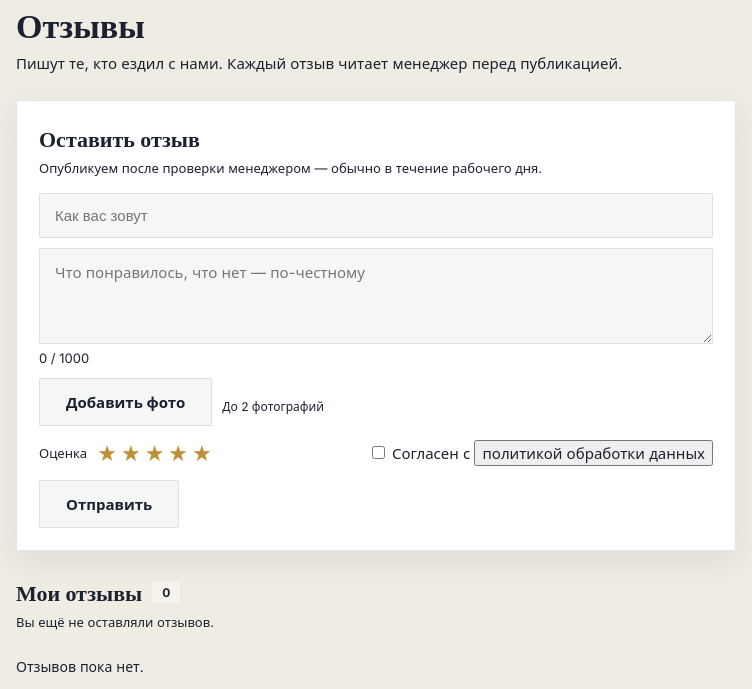
Reviews › submits a review only once while the first request is pending
Type "Анна" into the field with placeholder "Как вас зовут" at (376,216), box [39,193,713,238]
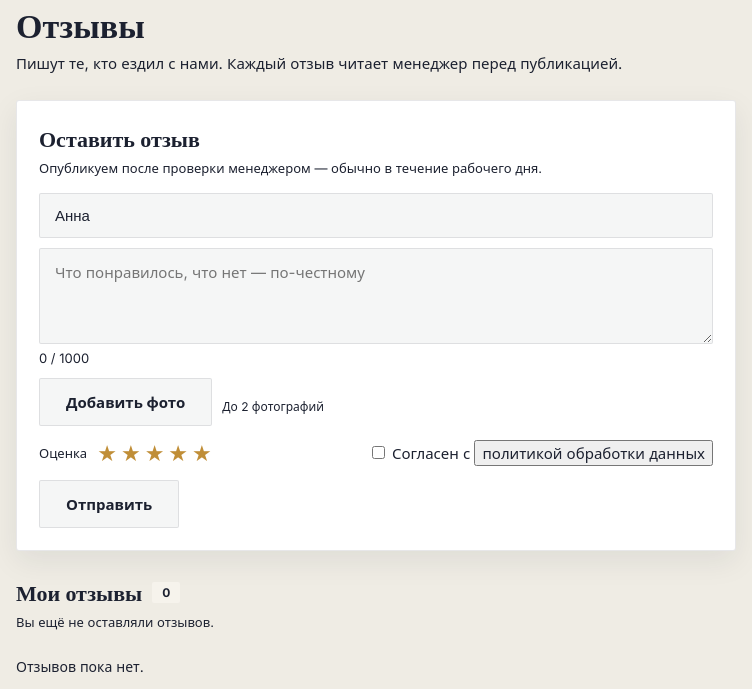
Type "Всё понравилось" into the text box with placeholder "Что понравилось, что нет — по-честному" at (376,296), box [39,248,713,344]
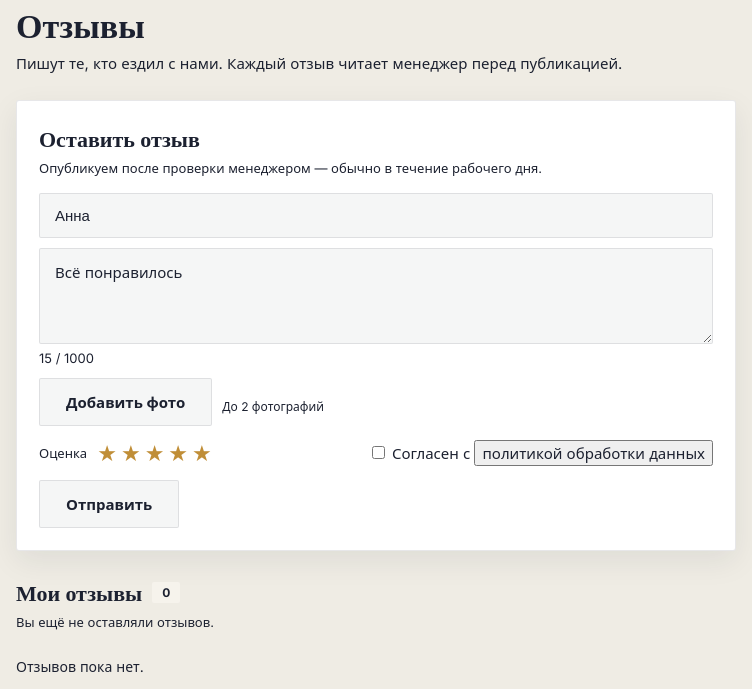
Click the checkbox at (378,453), box [372,446,385,459]
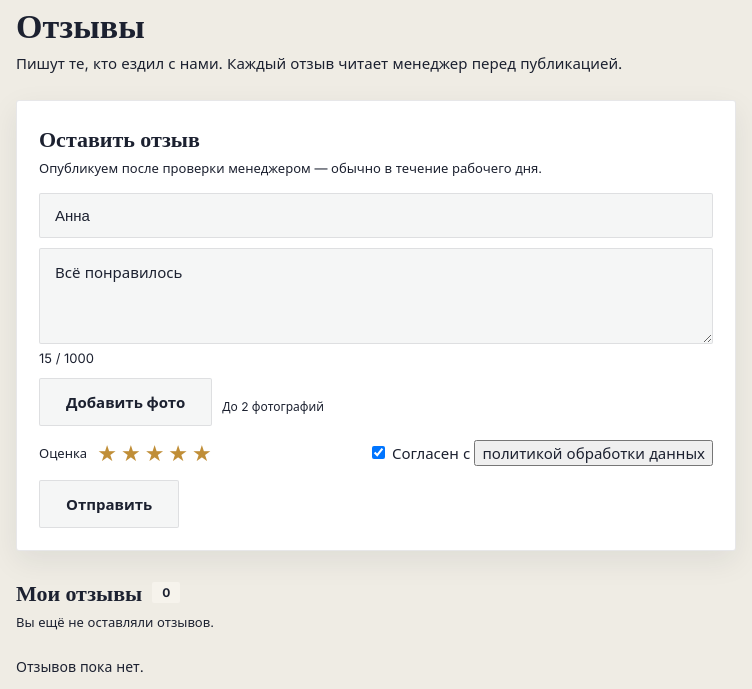
Click the button "Отправить" at (109,504), box [39,480,179,528]
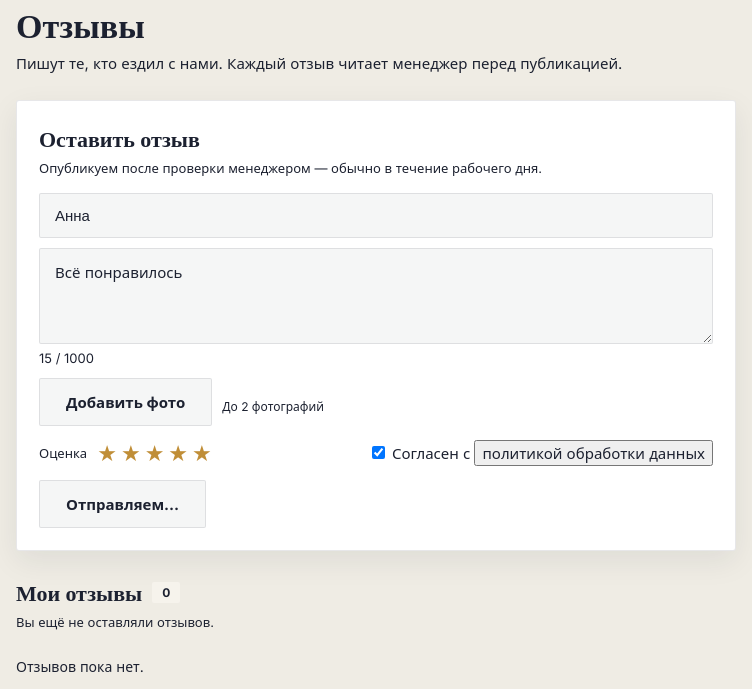
Click the button named "Отправить" at (123,504), box [39,480,206,528]
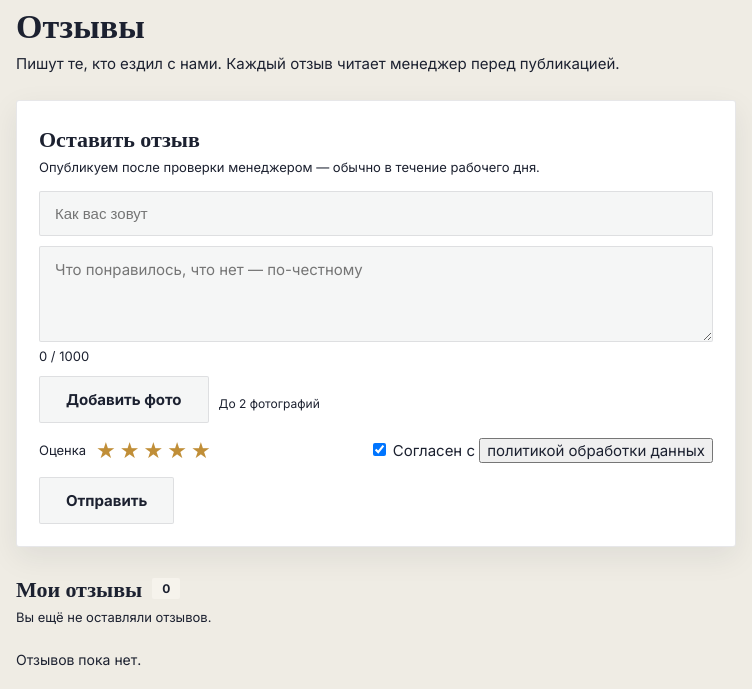
Expected: the button "Отправить" is disabled, [39,477,174,524]
Expected: the field with placeholder "Как вас зовут" is empty, [39,191,713,236]
